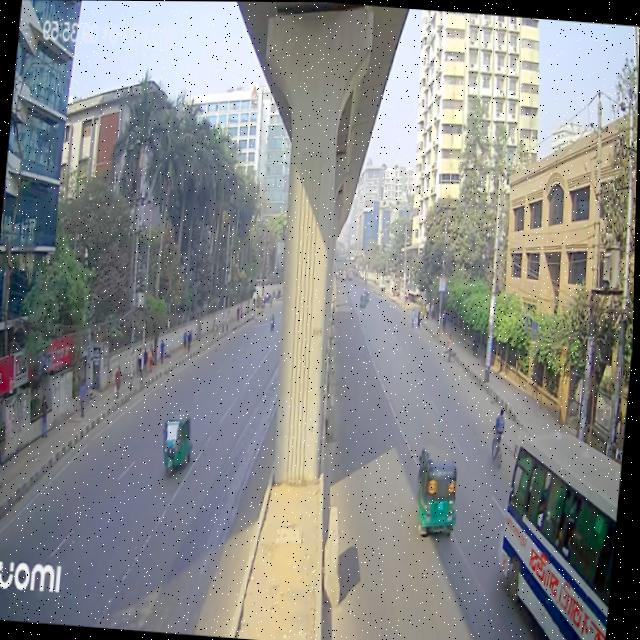cng: (413, 440, 461, 544), (158, 405, 198, 488)
